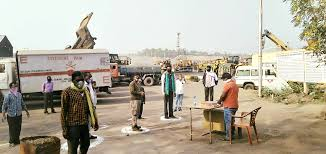mask: (71, 72, 85, 91), (8, 79, 18, 97), (219, 72, 233, 81), (203, 62, 214, 72), (90, 81, 99, 91), (162, 65, 172, 74), (84, 71, 91, 82), (45, 73, 53, 82), (177, 70, 184, 80), (131, 73, 137, 83)
